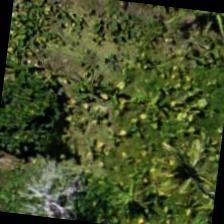Kelapa_Sawit: (137, 128, 222, 223)
